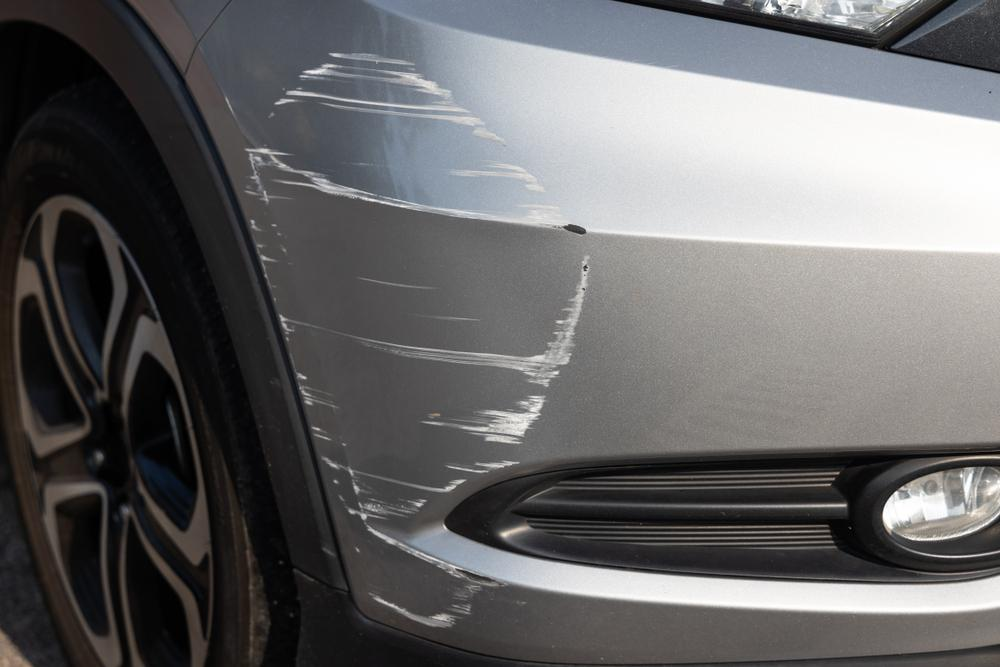scratch: (234, 45, 593, 635)
